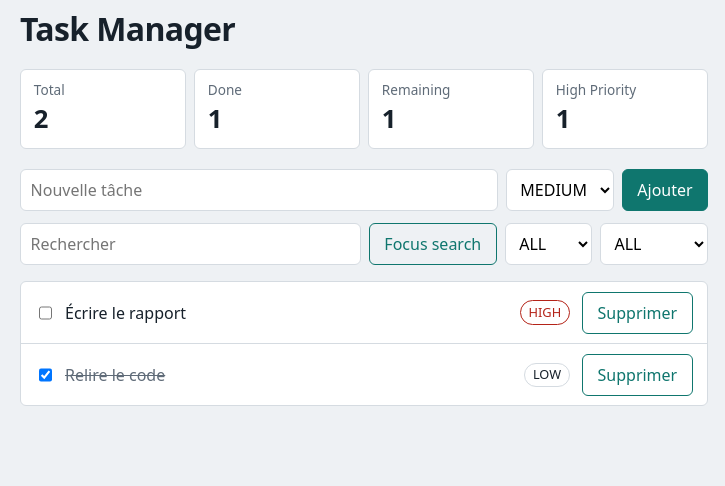
it: ajoute une tâche, vide le champ et remet le focus
Expected: the text "Écrire le rapport" is shown, [65,301,186,325]
Type "Nouvelle" into the field named "Titre" at (259, 190), box [20,169,498,211]
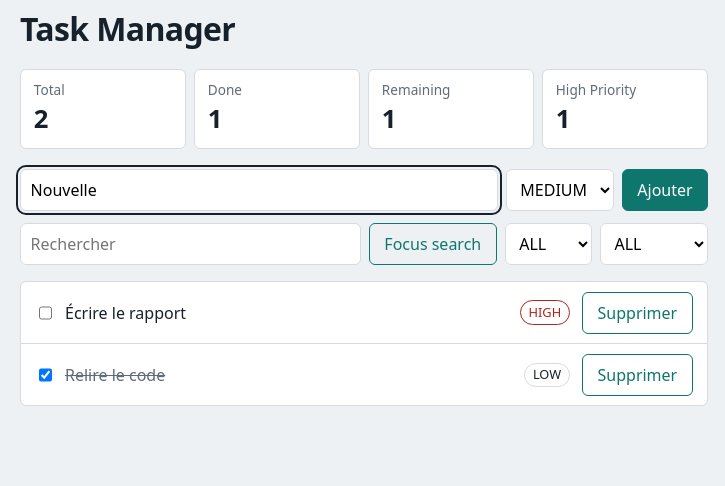
Click the button "Ajouter" at (665, 190), box [622,169,708,211]
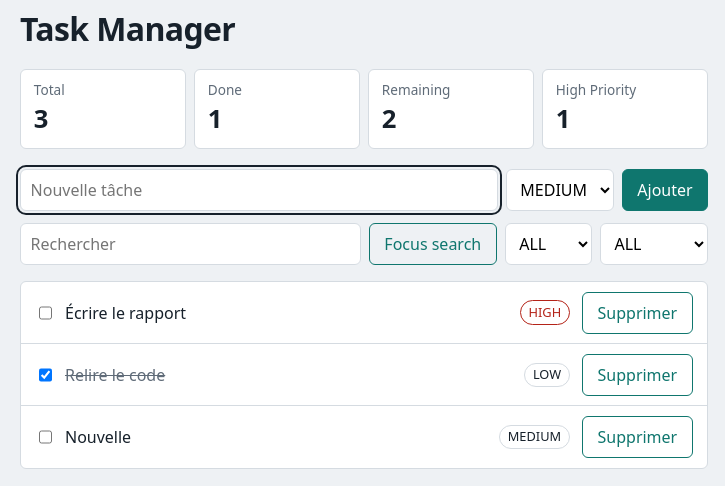
Now the text "Nouvelle" is shown, box [65,425,131,449]
Now the field named "Titre" is empty, box [20,169,498,211]
